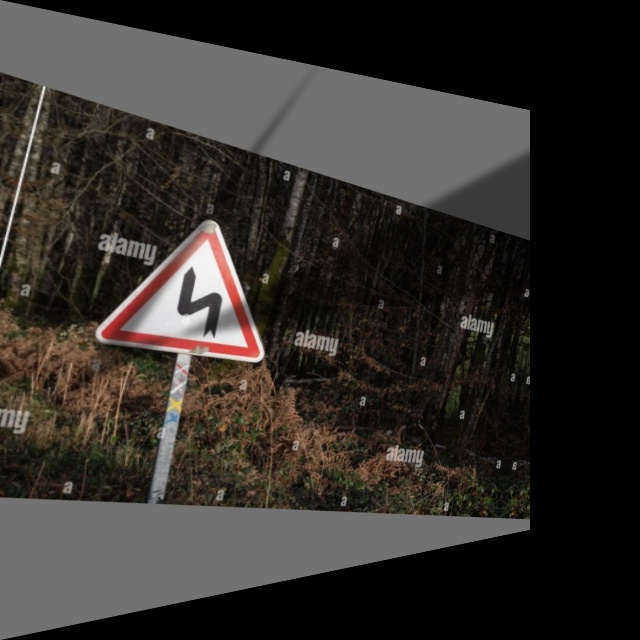Left_Reverse_Bend: (83, 184, 293, 379)
